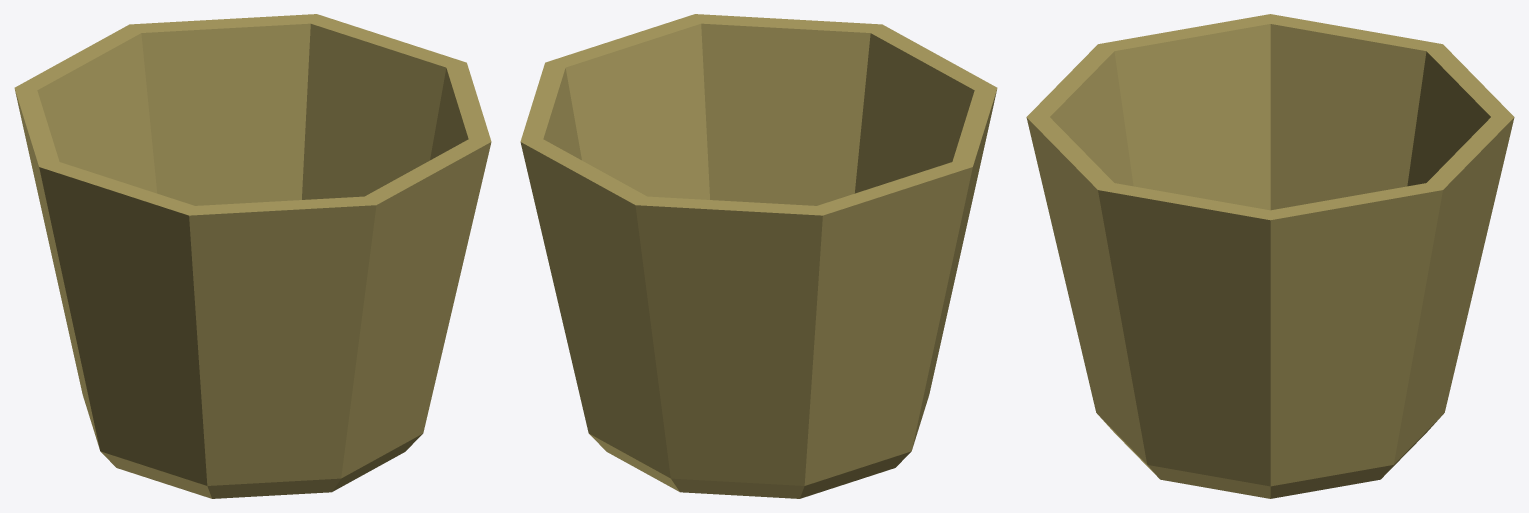
Rendered from bucket03.fbx.
3 views of the same model, side by side, from view 1: azimuth 30°, elevation 25°; view 2: azimuth 150°, elevation 25°; view 3: azimuth 270°, elevation 25° (orthographic).
Visible parts, largest first — view 1: Torus.002; view 2: Torus.002; view 3: Torus.002.
Boxes of the visible parts, x1=… form: Torus.002: x1=14, y1=14, x2=491, y2=498; Torus.002: x1=520, y1=14, x2=997, y2=498; Torus.002: x1=1026, y1=14, x2=1514, y2=498.
Bounding box in the file's own units: 0.4062 × 0.2902 × 0.4062.
